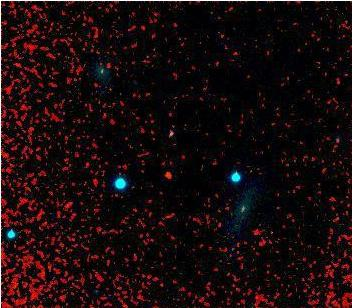star: (154, 160, 184, 190)
